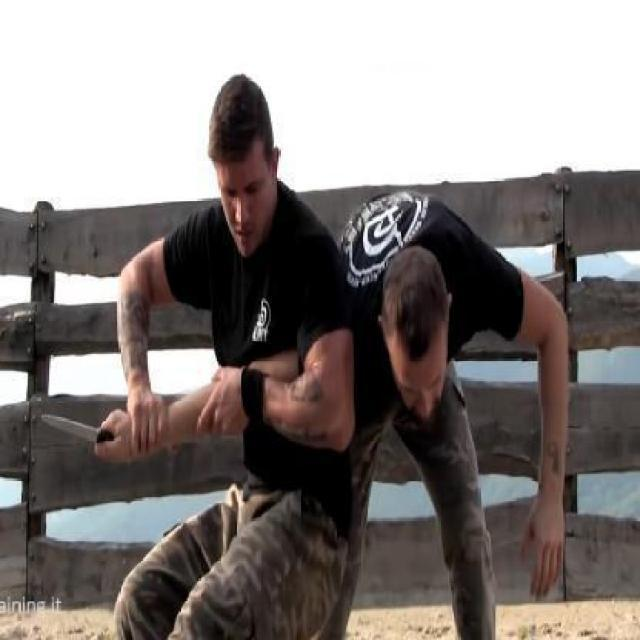-: (37, 402, 128, 471)
